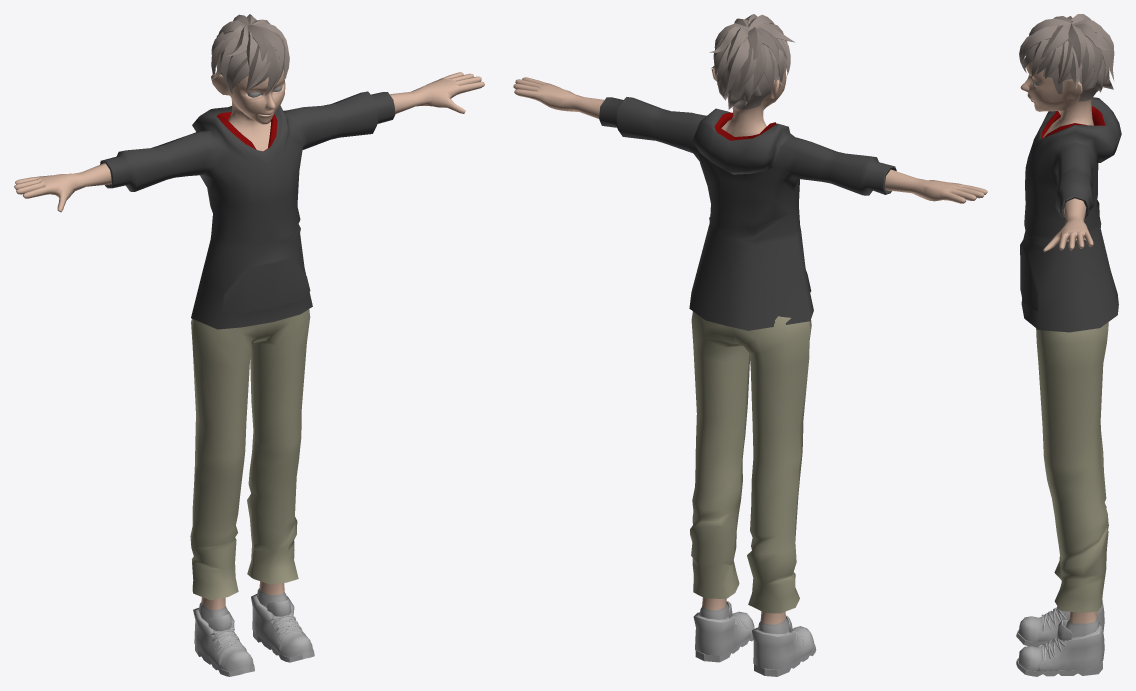
The model's file is Enemy_01.fbx.
3 renders of one model, left to right at view 1: azimuth 30°, elevation 25°; view 2: azimuth 150°, elevation 25°; view 3: azimuth 270°, elevation 25°, orthographic.
Visible parts, largest first — view 1: polySurface48, pants, polySurface43, polySurface21 (×2), polySurface50, polySurface61; view 2: pants, polySurface48, polySurface43, polySurface21 (×2), polySurface50, polySurface61; view 3: polySurface48, pants, polySurface43, polySurface21 (×2), polySurface50, polySurface61, polySurface28 (×2), polySurface20, polySurface22.
Boxes of the visible parts, <box> form: polySurface48: <box>100,91,395,329</box>; pants: <box>190,309,310,600</box>; polySurface43: <box>14,62,484,212</box>; polySurface21 (×2): <box>193,581,313,671</box>; polySurface50: <box>211,31,289,95</box>; polySurface61: <box>217,14,288,71</box>; pants: <box>690,311,811,613</box>; polySurface48: <box>599,97,896,330</box>; polySurface43: <box>513,65,987,203</box>; polySurface21 (×2): <box>693,597,814,669</box>; polySurface50: <box>711,38,790,97</box>; polySurface61: <box>709,14,795,64</box>; polySurface48: <box>1020,97,1121,332</box>; pants: <box>1036,322,1108,613</box>; polySurface43: <box>1020,57,1113,251</box>; polySurface21 (×2): <box>1018,600,1104,671</box>; polySurface50: <box>1019,30,1114,88</box>; polySurface61: <box>1022,14,1110,67</box>; polySurface28 (×2): <box>1041,606,1066,661</box>; polySurface20: <box>1016,659,1102,676</box>; polySurface22: <box>1057,620,1072,640</box>.
Size of the model in its own units: 134 by 174 by 26.12.
